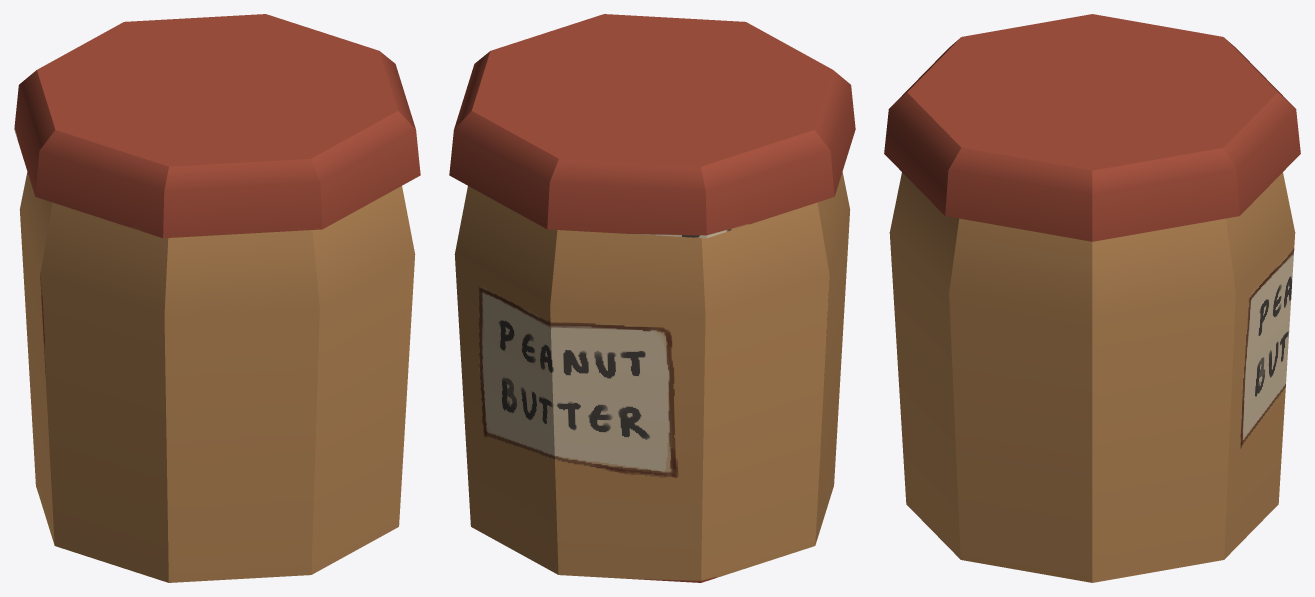
Rendered from peanutButter.fbx.
3 views of the same model, side by side, from view 1: azimuth 30°, elevation 25°; view 2: azimuth 150°, elevation 25°; view 3: azimuth 270°, elevation 25° (orthographic).
Parts seen in each view (by area): view 1: peanut_butter; view 2: peanut_butter; view 3: peanut_butter.
Boxes of the visible parts, x1,y1,x2,y2 form: peanut_butter: [14, 14, 420, 582]; peanut_butter: [449, 14, 855, 582]; peanut_butter: [884, 14, 1300, 582].
Bounding box in the file's own units: 27.18 × 29.64 × 27.18.
1 material, 1 textured.
